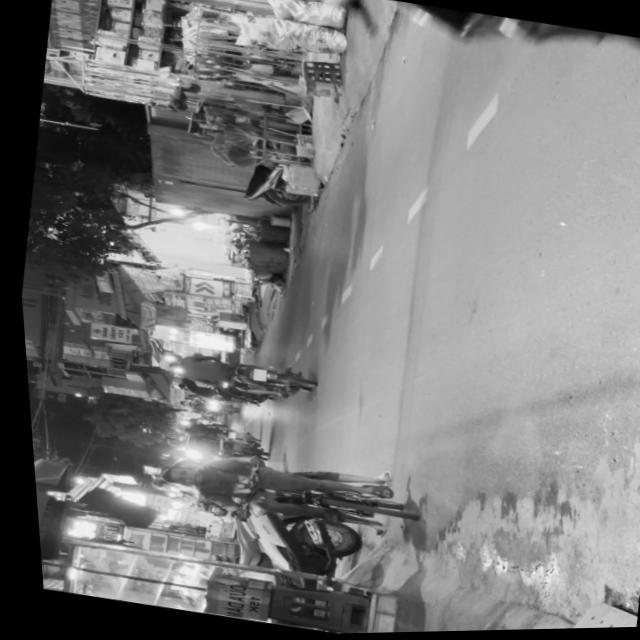licenseplate: (97, 0, 640, 95)
